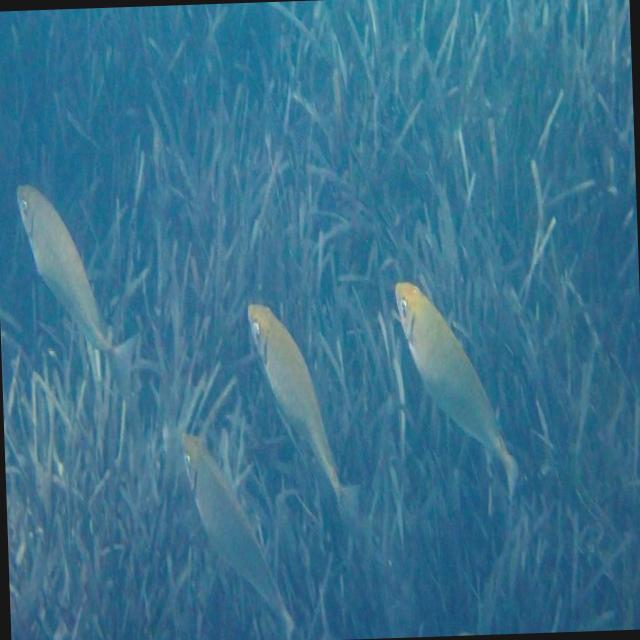Sokar Baligi: (218, 281, 380, 548), (382, 264, 545, 525), (9, 170, 141, 418)
